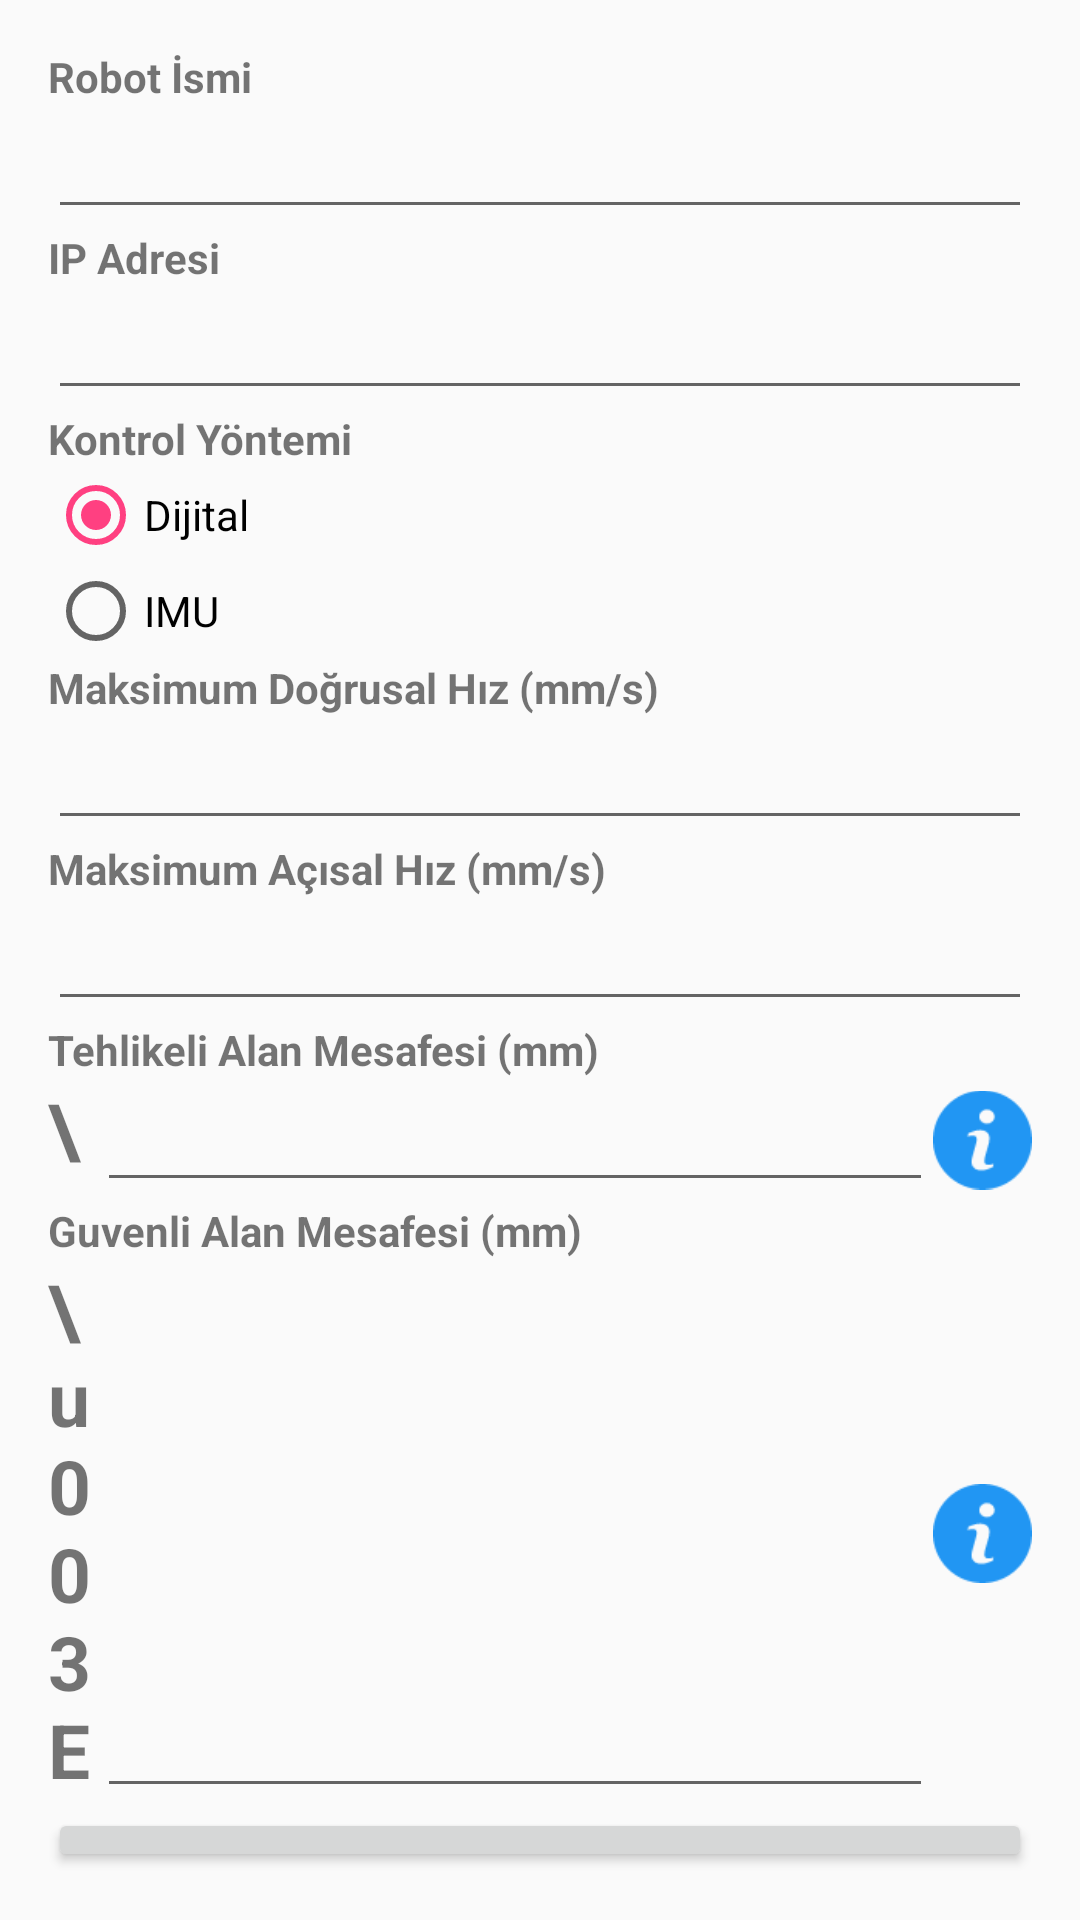

Icons on this 1080x1920 Android screen, each with the point to tap as (x=x, y=y):
info: (x=982, y=1140), (x=982, y=1533)
